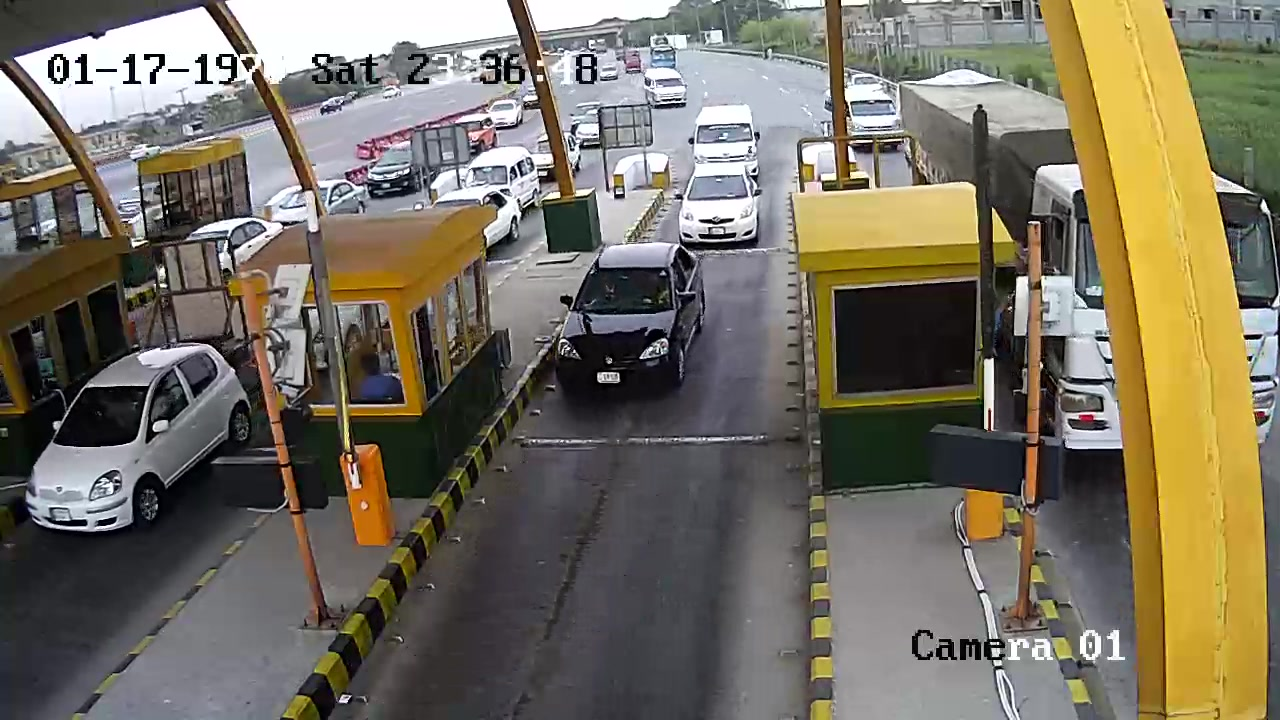F1: (551, 241, 714, 412)
